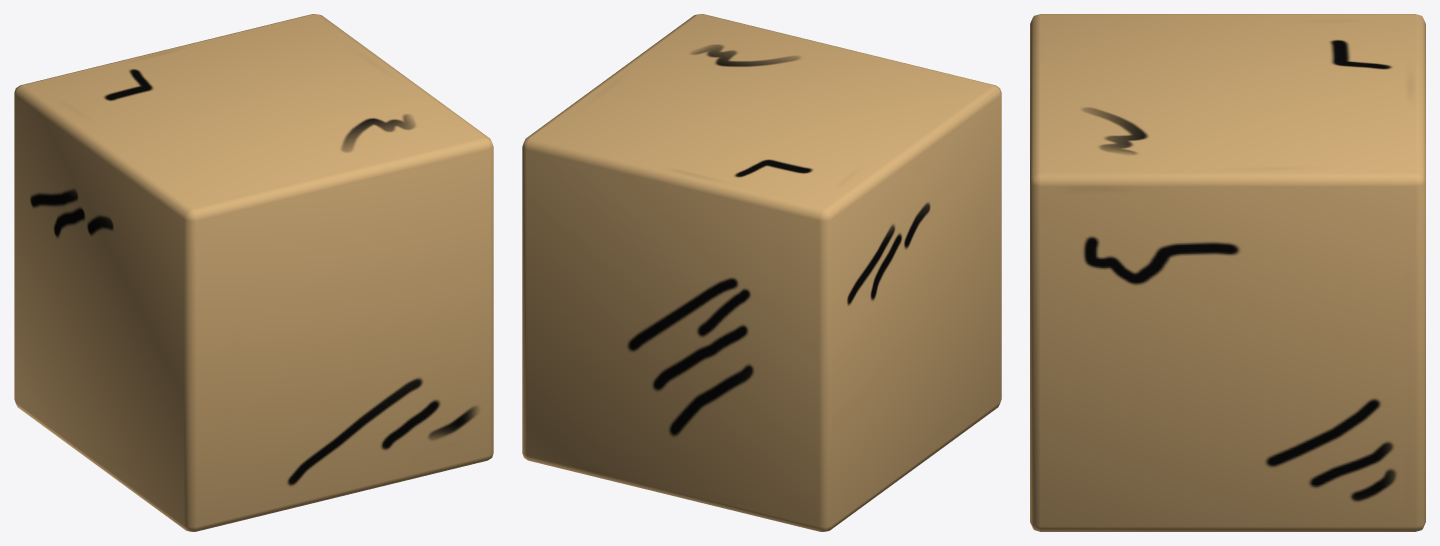
File: F_StylizedBox.fbx
3 views of the same model, side by side, from view 1: azimuth 30°, elevation 25°; view 2: azimuth 150°, elevation 25°; view 3: azimuth 270°, elevation 25° (orthographic). The views are drawn at different scales.
Visible parts, largest first — view 1: Cube; view 2: Cube; view 3: Cube.
Part boxes in pixels (box(x1,y1,x2,y2)): Cube: box(14, 14, 493, 531); Cube: box(522, 14, 1001, 531); Cube: box(1030, 14, 1425, 531).
Bounding box in the file's own units: 200 × 200 × 200.
